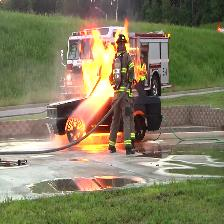fire: (89, 31, 111, 92)
